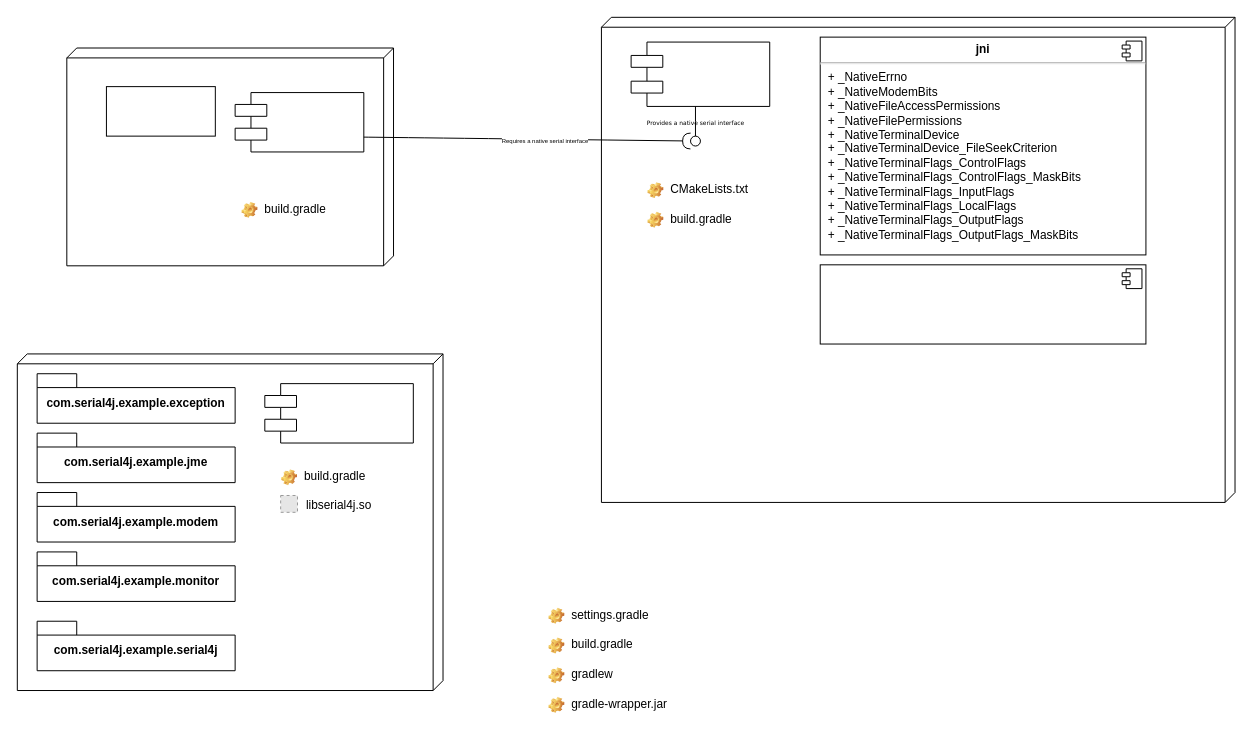
Image size: 1252x741. Some labels were removed from this diagram. Grey dashed boxes stand in for pictures. The centre of each missing label's shape, as x and y in pixels:
linux + ModemController + SerialUtils + TerminalDevice: point (982, 304)
serial4j: point (299, 122)
serial4j-examples: point (338, 413)
serial4j-native: point (700, 73)
«interface» Name: point (160, 111)
